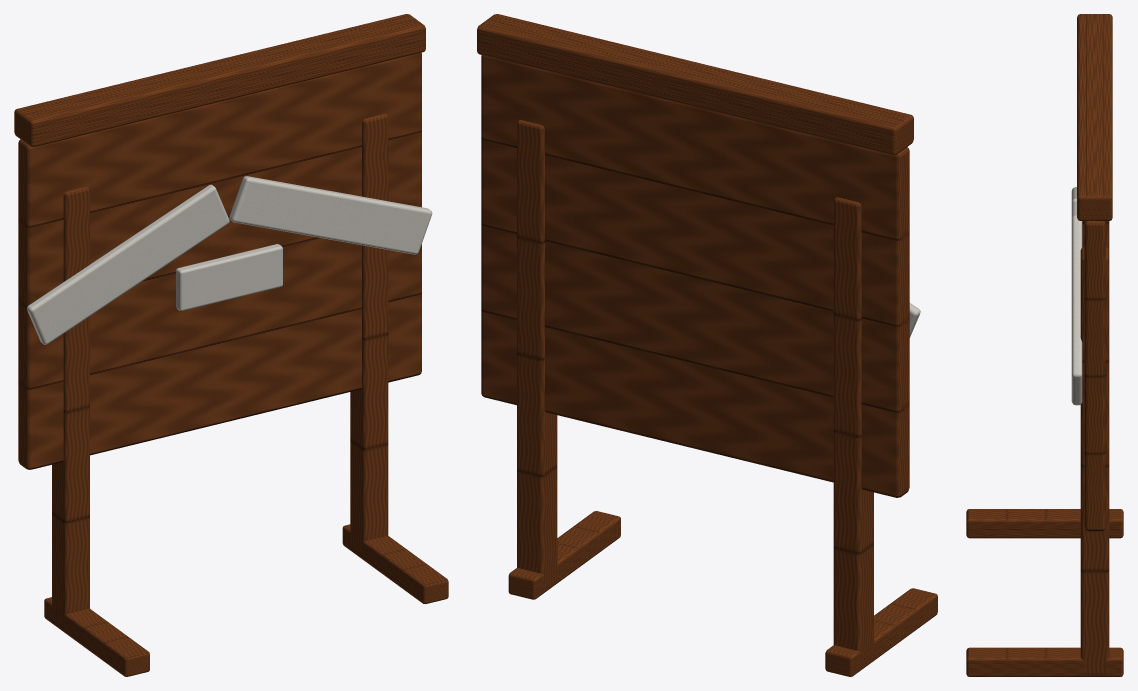
The model's file is tactical-shooter-hill-town-site-marker-board-e51e7c23__27539.glb.
3 views of the same model, side by side, from view 1: azimuth 30°, elevation 25°; view 2: azimuth 150°, elevation 25°; view 3: azimuth 270°, elevation 25° (orthographic). The views are drawn at different scales.
Visible parts, largest first — view 1: site-marker-board; view 2: site-marker-board; view 3: site-marker-board.
Part boxes in pixels (left/top/right/bottom): site-marker-board: left=14, top=14, right=448, bottom=676; site-marker-board: left=477, top=14, right=937, bottom=676; site-marker-board: left=966, top=14, right=1123, bottom=676.
Bounding box in the file's own units: 1.24 × 1.54 × 0.44.
Materials: 2 (2 with a texture image).
